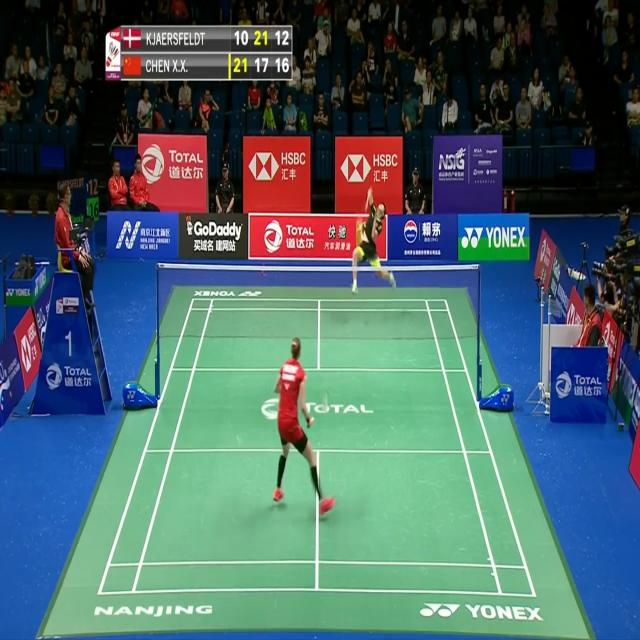Player1: (268, 335, 338, 526)
Player2: (349, 186, 397, 300)
